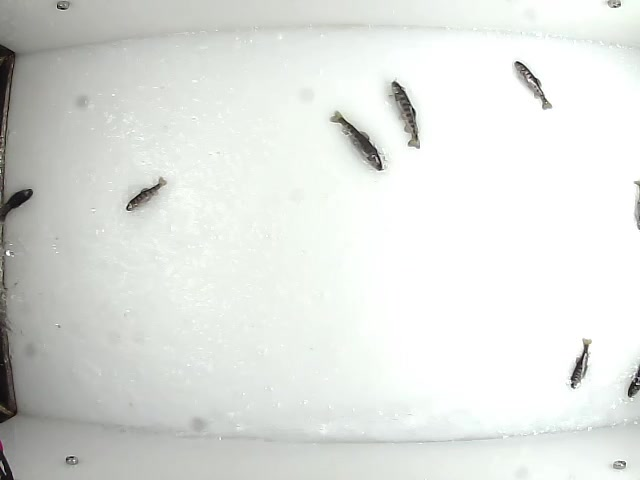fish: (329, 109, 386, 172), (387, 81, 421, 150), (513, 59, 553, 111), (565, 334, 595, 390), (124, 175, 167, 210)
